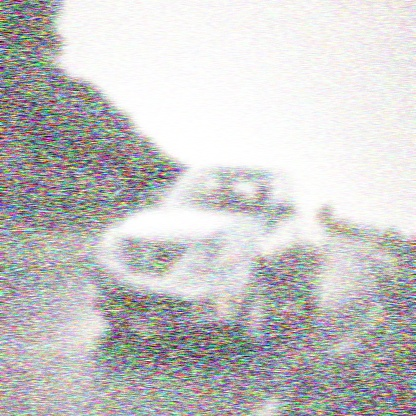Vehicle: (92, 164, 326, 354)
